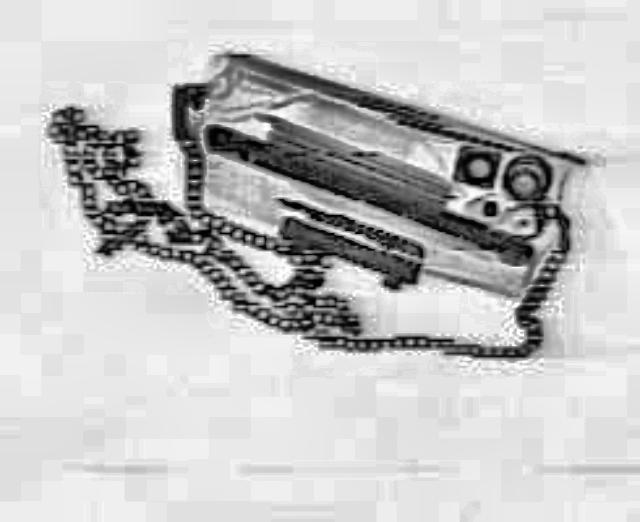Knife: (266, 186, 427, 256)
